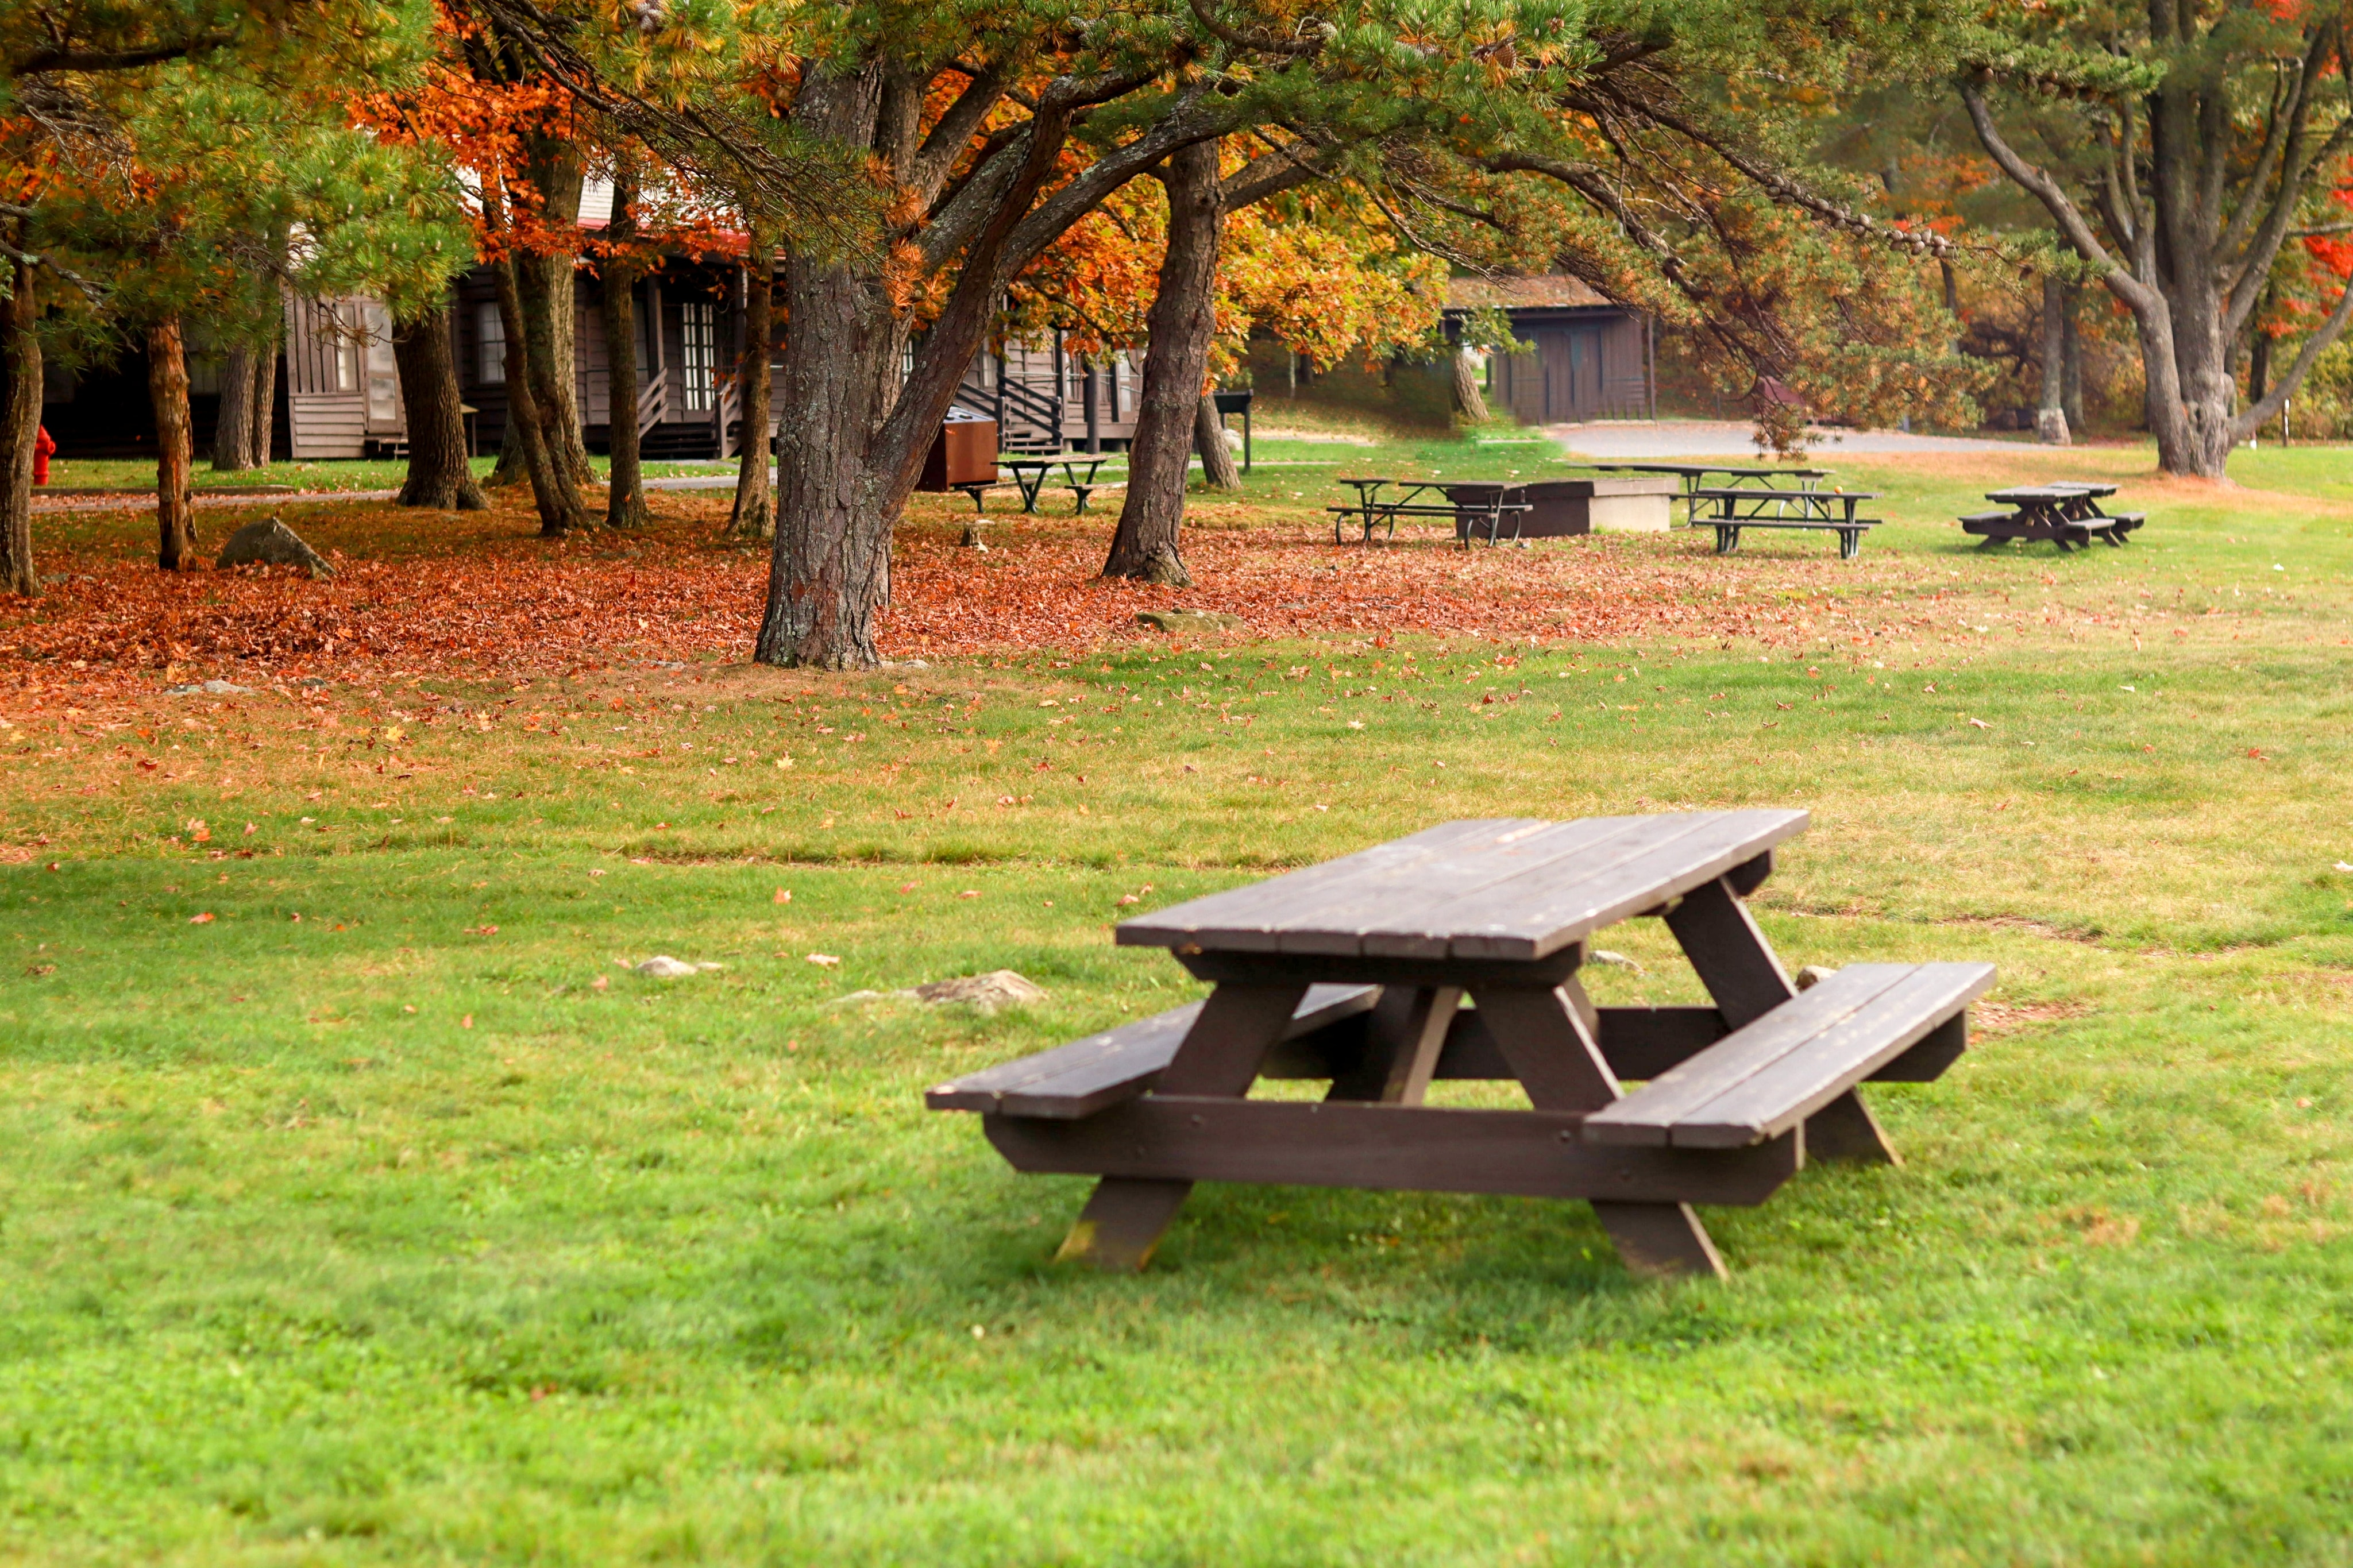obstacle: (918, 741, 1984, 1440)
